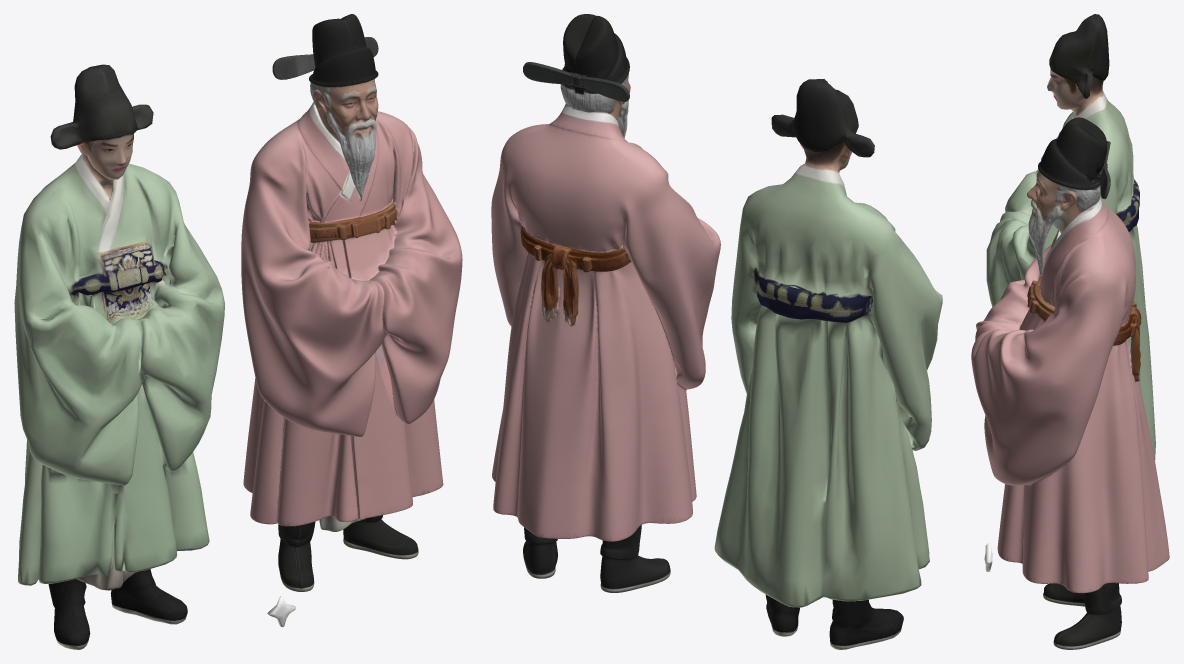
File: officials-josun.glb
The picture shows the model from 3 angles, left to right: view 1: azimuth 30°, elevation 25°; view 2: azimuth 150°, elevation 25°; view 3: azimuth 270°, elevation 25°; orthographic projection. The views are drawn at different scales.
Parts seen in each view (by area): view 1: Mesh_0.001, Mesh_0; view 2: Mesh_0.001, Mesh_0; view 3: Mesh_0.001, Mesh_0.
Boxes of the visible parts, left/top/right/bottom form: Mesh_0.001: left=241, top=14, right=462, bottom=591; Mesh_0: left=14, top=64, right=295, bottom=649; Mesh_0.001: left=491, top=14, right=720, bottom=592; Mesh_0: left=714, top=79, right=942, bottom=649; Mesh_0.001: left=971, top=117, right=1169, bottom=649; Mesh_0: left=984, top=14, right=1155, bottom=571.
Size of the model in its own units: 1.56 by 1.91 by 0.6826.
Materials: 2 (2 with a texture image).
